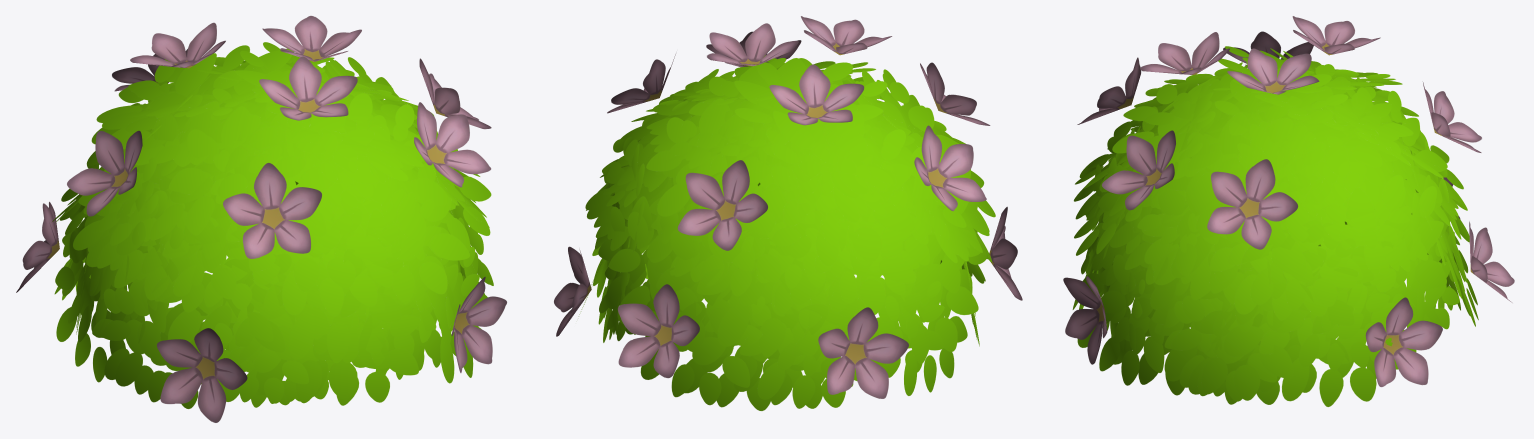
The model's file is Bush_Flowers.gltf.
The picture shows the model from 3 angles, left to right: view 1: azimuth 30°, elevation 25°; view 2: azimuth 150°, elevation 25°; view 3: azimuth 270°, elevation 25°; orthographic projection. The views are drawn at different scales.
Visible parts, largest first — view 1: Bush_Flowers; view 2: Bush_Flowers; view 3: Bush_Flowers.
Boxes of the visible parts, <box> form: Bush_Flowers: <box>16,15,506,422</box>; Bush_Flowers: <box>554,16,1022,410</box>; Bush_Flowers: <box>1063,16,1514,406</box>.
Bounding box in the file's own units: 1.09 × 0.7585 × 1.11.
2 materials, 2 textured.
